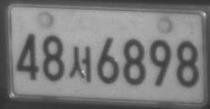4: (15, 32, 39, 80)
6: (96, 37, 120, 84)
8: (122, 37, 147, 85), (41, 34, 66, 81), (175, 40, 200, 87)
9: (149, 39, 172, 87)
서: (68, 44, 92, 83)
